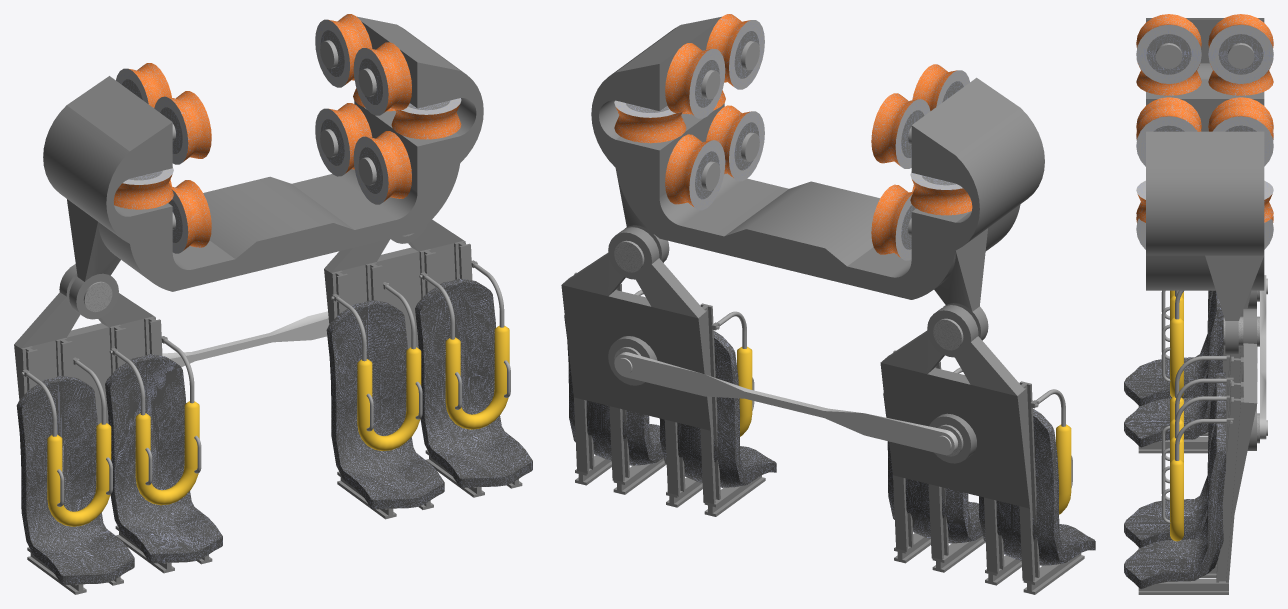
File: inverted.dae
3 renders of one model, left to right at view 1: azimuth 30°, elevation 25°; view 2: azimuth 150°, elevation 25°; view 3: azimuth 270°, elevation 25°, orthographic. The views are drawn at different scales.
Parts seen in each view (by area): view 1: group_32 (×2), group_50 (×2), group_65, group_8 (×9), group_40 (×4), group_17 (×2), group_24 (×2), group_64, group_62, group_9 (×5), group_15 (×2), group_25 (×2) (+5 smaller); view 2: group_24 (×2), group_65, group_9 (×9), group_17 (×2), group_32 (×2), group_50 (×2), group_64, group_62, group_67, group_8 (×5), group_15 (×2), group_23 (×2) (+16 smaller); view 3: group_63, group_32 (×2), group_50 (×2), group_9 (×8), group_8 (×8), group_17 (×2), group_40 (×3), group_65, group_6, group_31, group_15, group_29 (+12 smaller).
Boxes of the visible parts, x1,y1,x2,y2 form: group_32 (×2): (16,278,532,584); group_50 (×2): (105,300,444,563); group_65: (98,163,460,291); group_8 (×9): (113,42,461,250); group_40 (×4): (47,325,509,526); group_17 (×2): (67,16,460,178); group_24 (×2): (14,243,455,424); group_64: (203,176,354,258); group_62: (43,105,129,243); group_9 (×5): (128,14,372,176); group_15 (×2): (115,101,460,252); group_25 (×2): (14,219,463,348); group_24 (×2): (561,285,1029,508); group_65: (615,168,1020,299); group_9 (×9): (614,43,972,257); group_17 (×2): (615,16,1020,183); group_32 (×2): (564,315,1095,565); group_50 (×2): (659,331,982,543); group_64: (724,181,879,266); group_62: (955,108,1044,250); group_67: (614,352,957,455); group_8 (×5): (706,14,956,181); group_15 (×2): (615,103,970,259); group_23 (×2): (636,258,944,373); group_63: (1146,169,1264,255); group_32 (×2): (1124,290,1225,588); group_50 (×2): (1124,290,1225,547); group_9 (×8): (1208,14,1273,249); group_8 (×8): (1136,14,1201,249); group_17 (×2): (1146,18,1264,168); group_40 (×3): (1170,295,1183,541); group_65: (1146,255,1264,290); group_6: (1205,255,1263,320); group_31: (1216,397,1243,582); group_15: (1146,79,1264,131); group_29: (1138,578,1228,594).
Size of the model in its own units: 379 by 111 by 351.
